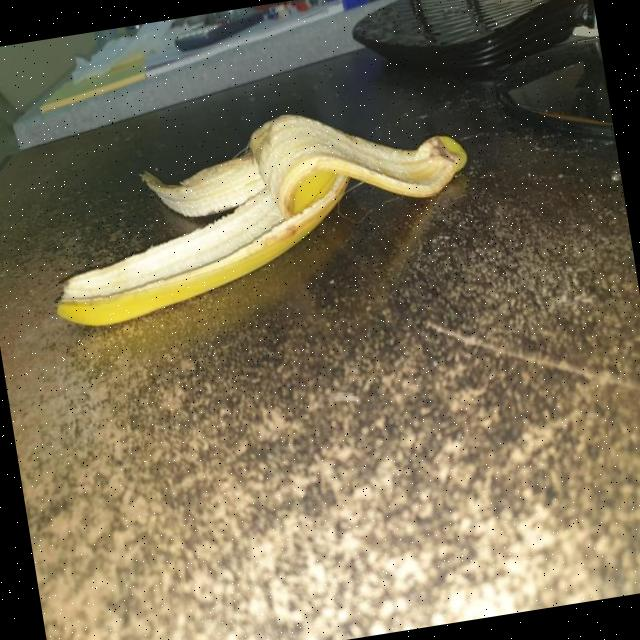banana-peel: (31, 85, 484, 333)
